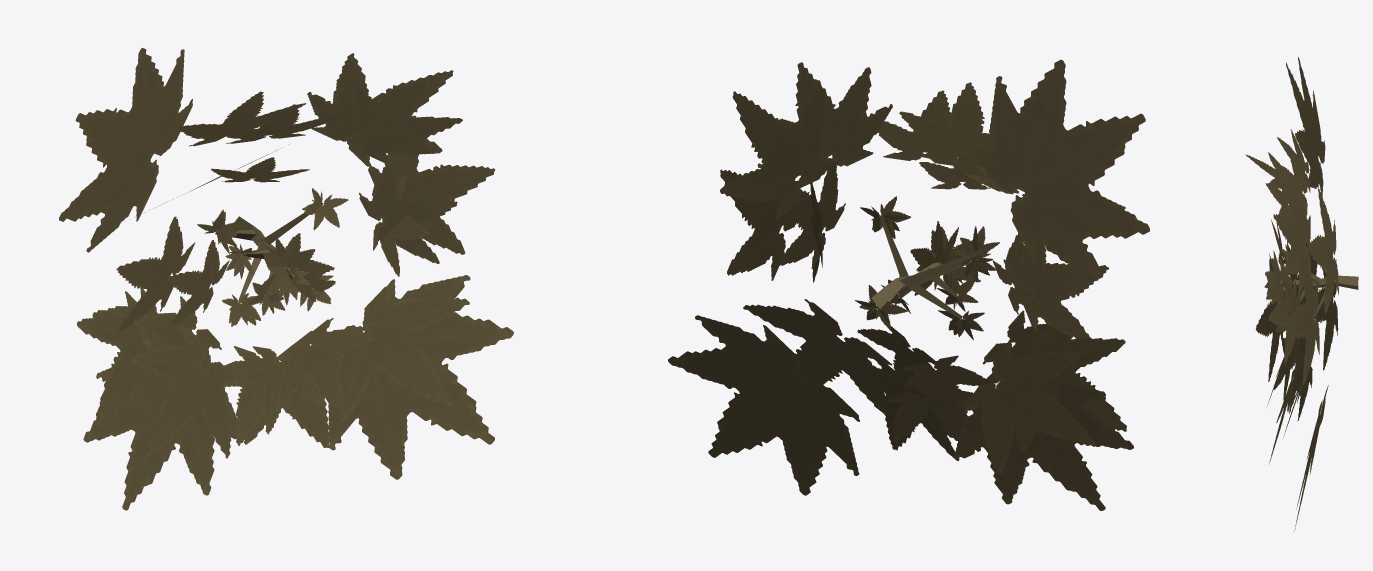
File: p_hybrid_vegetative_c4_cards.obj
3 renders of one model, left to right at view 1: azimuth 30°, elevation 25°; view 2: azimuth 150°, elevation 25°; view 3: azimuth 270°, elevation 25°, orthographic. The views are drawn at different scales.
Size of the model in its own units: 1.28 by 1.25 by 0.303.
Materials: 1 (1 with a texture image).
